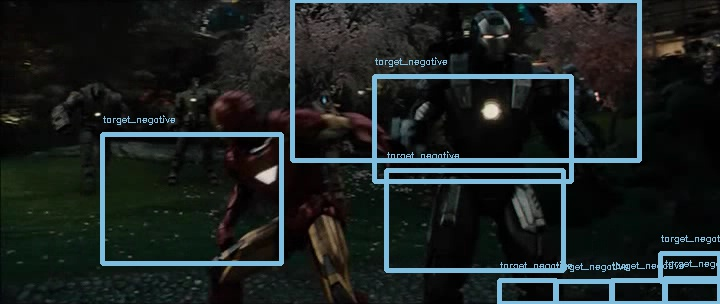person: (206, 85, 255, 142), (205, 85, 254, 142), (207, 85, 256, 142), (206, 84, 255, 141), (206, 86, 255, 143)
target_negative: (397, 13, 599, 169), (395, 216, 618, 269), (484, 141, 553, 213), (120, 208, 301, 220), (660, 218, 670, 276), (61, 198, 375, 199)
